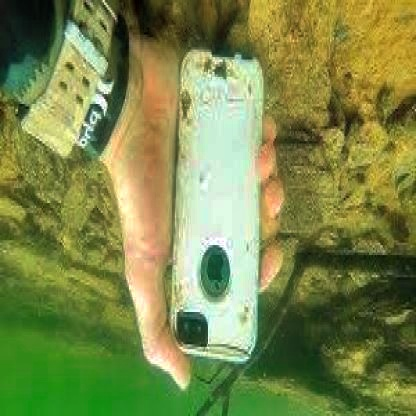cellphone: (168, 44, 263, 366)
